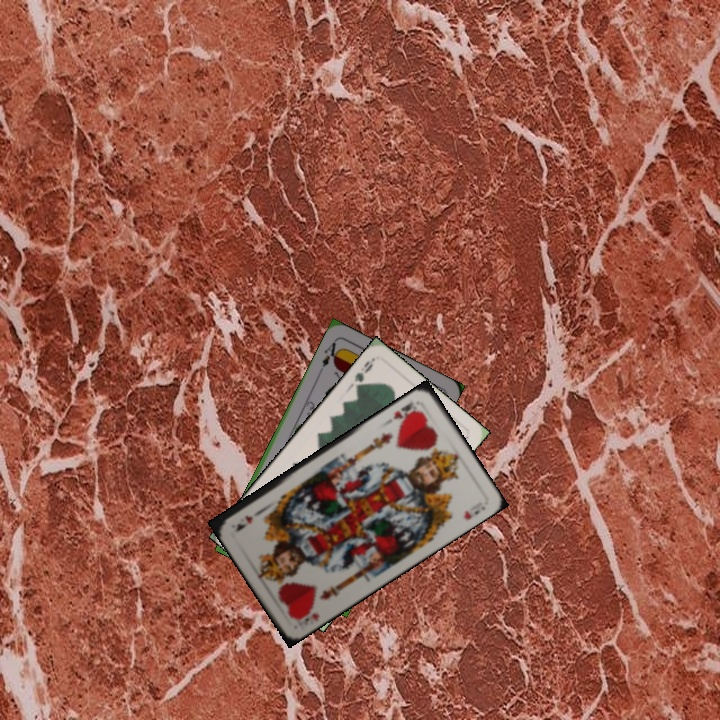EA: (316, 336, 343, 374)
G9: (350, 354, 377, 393)
HK: (389, 397, 421, 425), (292, 609, 322, 629)
